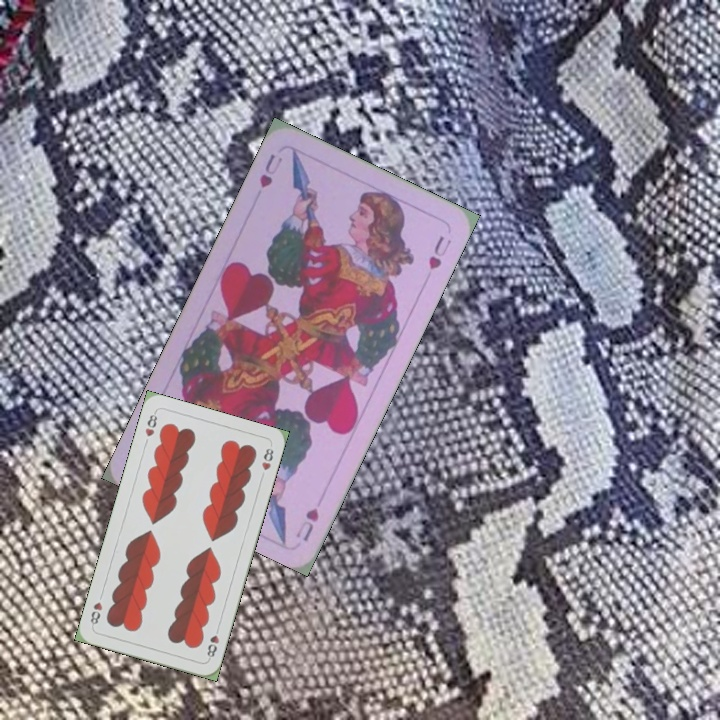H8: (203, 623, 222, 662), (141, 408, 160, 439)
HU: (255, 149, 285, 191), (292, 503, 322, 544)
